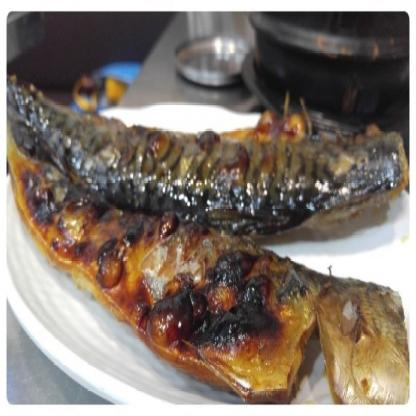Peixe: (0, 66, 416, 416)
